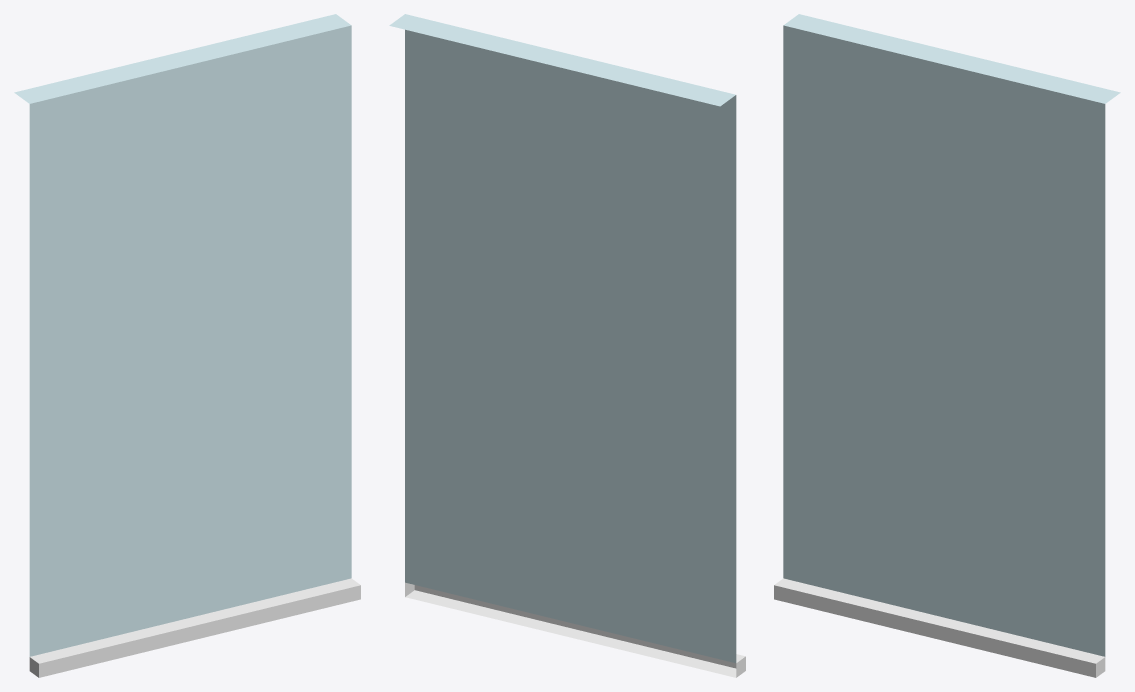
Rendered from 19_wall.FBX.
3 renders of one model, left to right at view 1: azimuth 30°, elevation 25°; view 2: azimuth 150°, elevation 25°; view 3: azimuth 330°, elevation 25°, orthographic. The views are drawn at different scales.
Visible parts, largest first — view 1: 19_wall; view 2: 19_wall; view 3: 19_wall.
Part boxes in pixels (box(x1,y1,x2,y2)): 19_wall: box(14, 14, 360, 677); 19_wall: box(389, 14, 745, 677); 19_wall: box(774, 14, 1120, 677).
Size of the model in its own units: 256 by 432 by 34.48.
